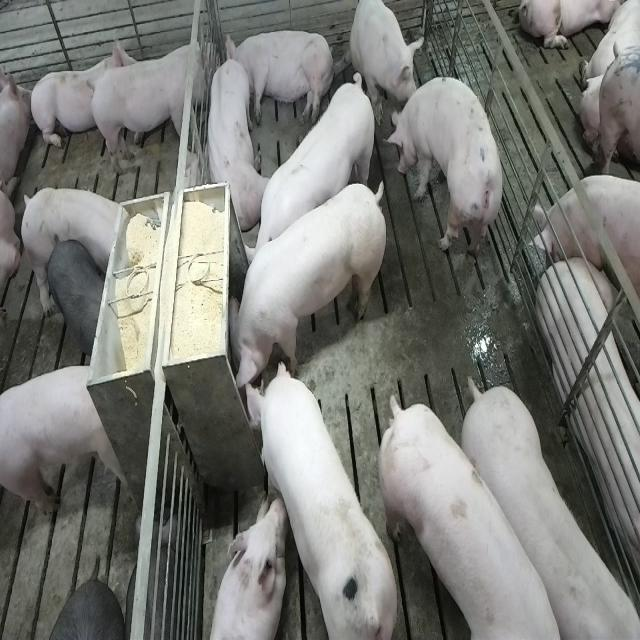Feeding: (234, 356, 398, 634), (221, 175, 384, 408)
Lateral_lying: (540, 252, 640, 614), (226, 28, 336, 128)
Sitting: (347, 0, 419, 119)
Standing: (379, 388, 581, 640), (465, 379, 640, 640), (246, 72, 378, 284), (388, 77, 508, 277), (2, 365, 133, 521), (86, 32, 216, 181), (534, 174, 640, 308), (22, 184, 130, 288), (45, 235, 107, 361)
Sternal_lying: (29, 32, 133, 156), (202, 46, 264, 230), (206, 496, 284, 640)
